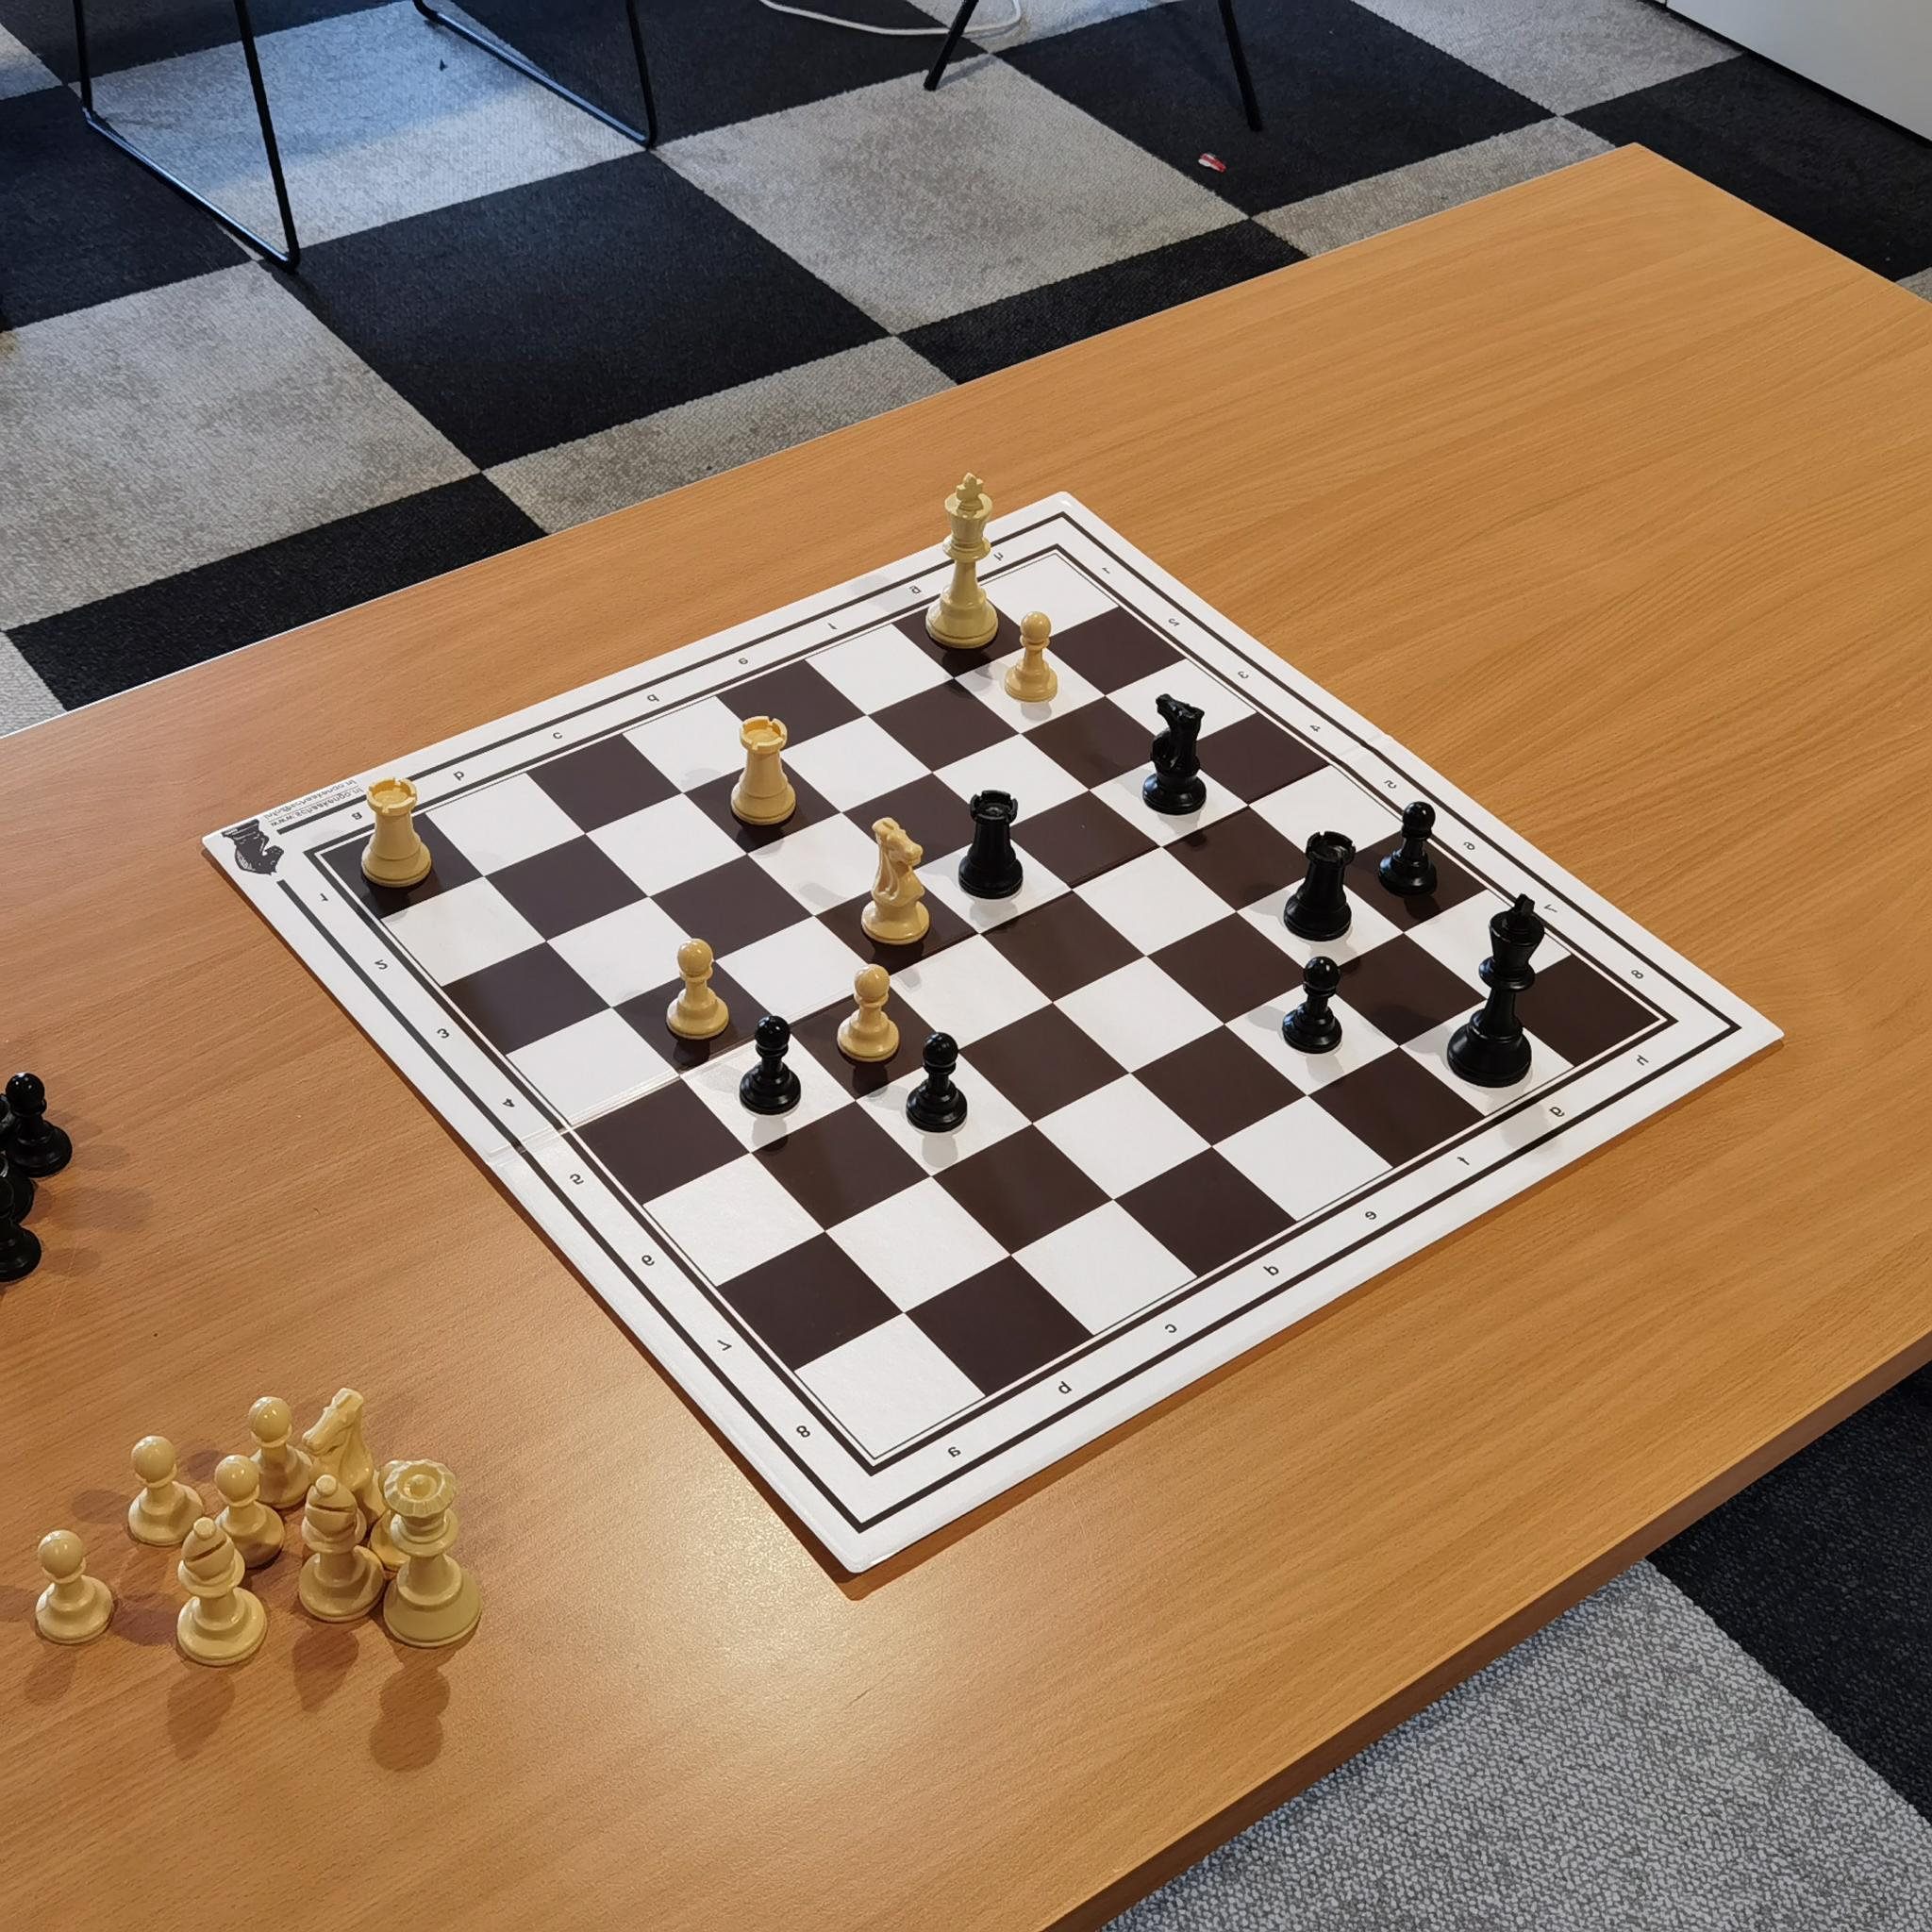corners: (846, 1444, 897, 1493), (287, 842, 338, 881), (1642, 1007, 1695, 1044), (1031, 538, 1074, 571)
eight: (1608, 948, 1661, 996), (777, 1407, 821, 1451), (784, 1417, 826, 1461)
one: (303, 876, 340, 915), (1086, 552, 1116, 582)
